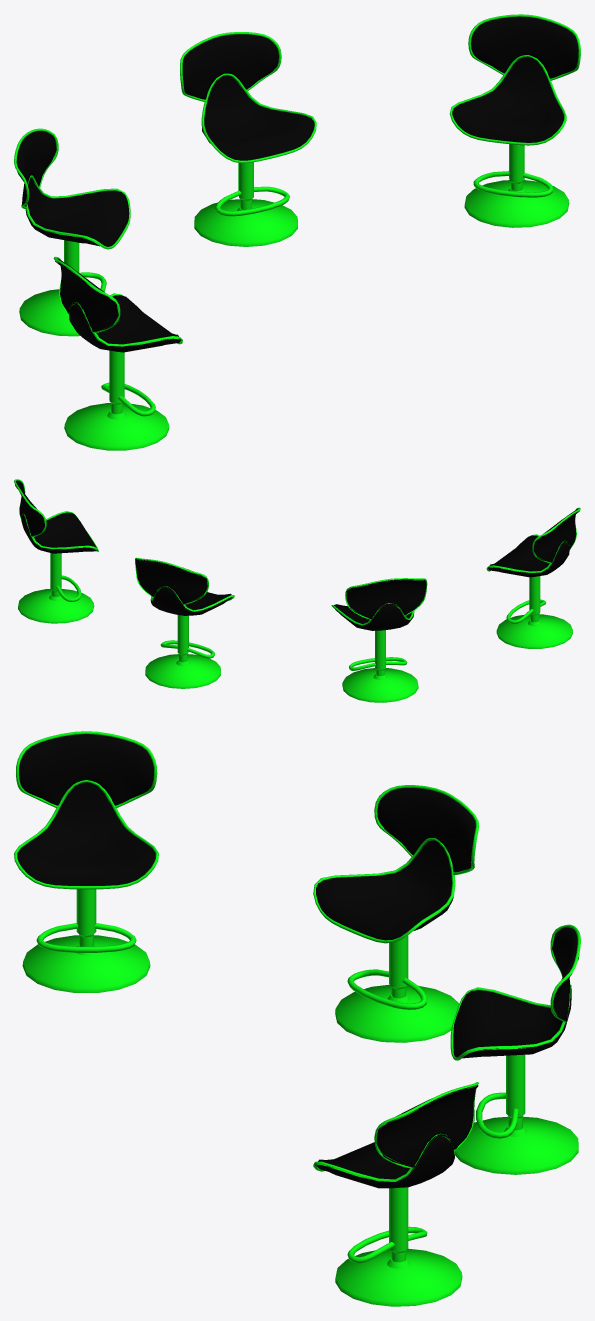
The model's file is Chairs_2_Realsize.FBX.
3 renders of one model, top to bottom at view 1: azimuth 30°, elevation 25°; view 2: azimuth 150°, elevation 25°; view 3: azimuth 270°, elevation 25°, orthographic. The views are drawn at different scales.
Visible parts, largest first — view 1: Chairs_2_Realsize; view 2: Chairs_2_Realsize; view 3: Chairs_2_Realsize.
Part boxes in pixels (box(x1,y1,x2,y2)): Chairs_2_Realsize: box(14, 14, 580, 450); Chairs_2_Realsize: box(14, 479, 580, 702); Chairs_2_Realsize: box(14, 731, 580, 1306).
Size of the model in its own units: 311 by 80.44 by 199.
2 materials, 1 textured.
